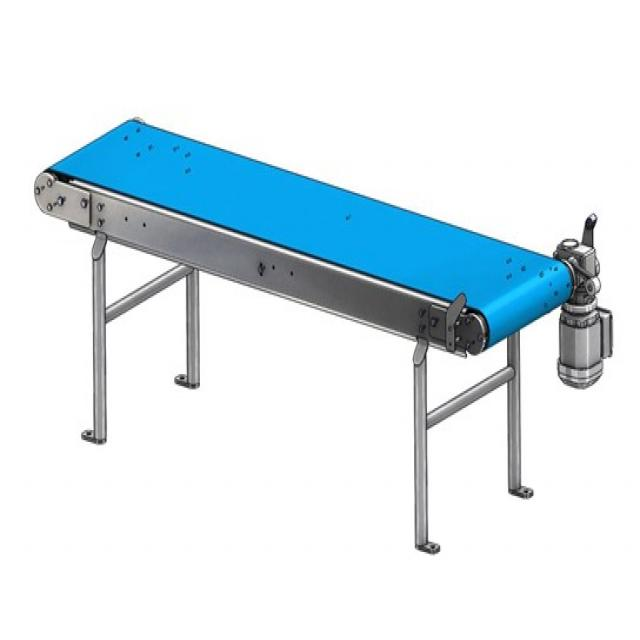Convoyeur: (29, 104, 605, 358)
